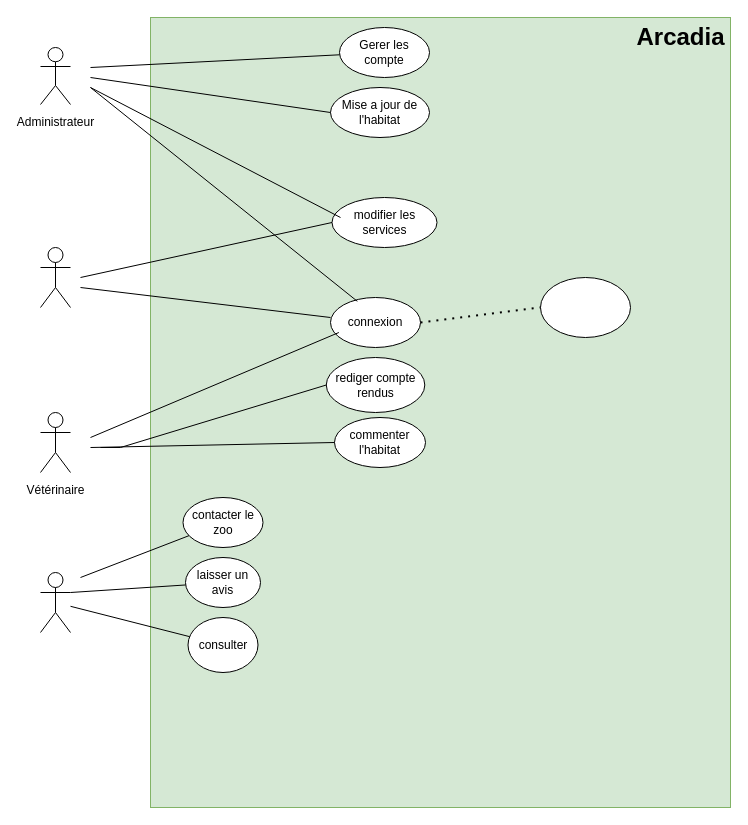
Image size: 748x825. Some labels were removed from this diagram. Each missing label, with the box of its shape:
Employé: (40, 246, 70, 308)
valider les avis: (540, 276, 630, 338)
Visiteur: (40, 572, 70, 632)
